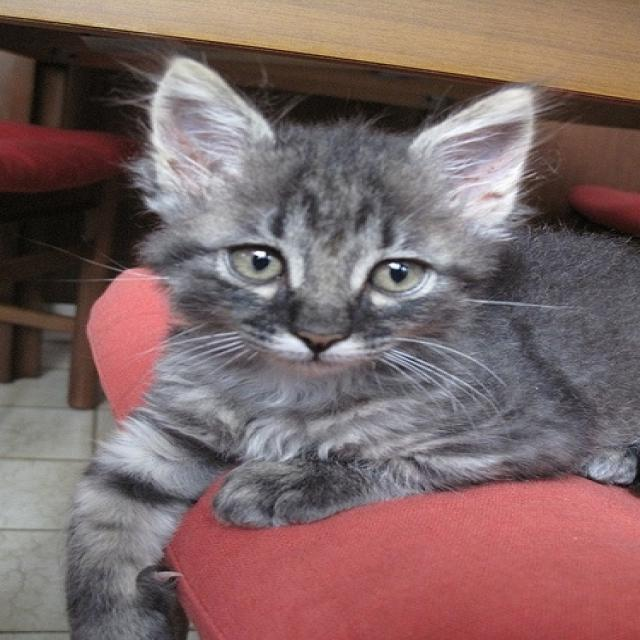cat: (40, 46, 640, 640)
